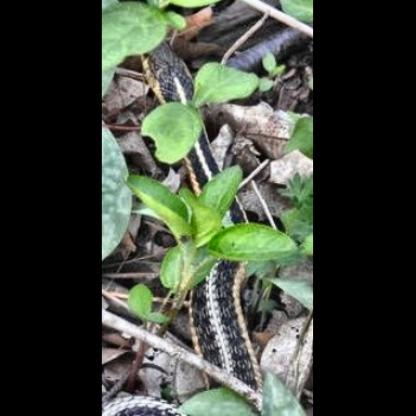Snake: (133, 26, 273, 416)
